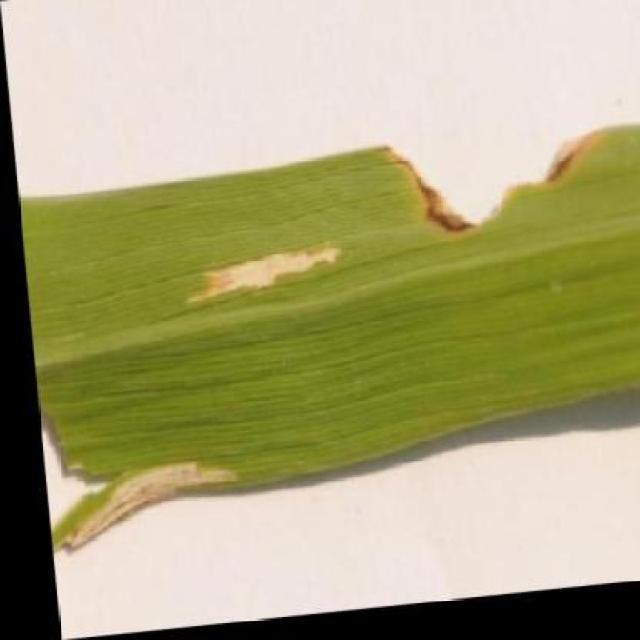Brown_Spot: (12, 124, 640, 562)
